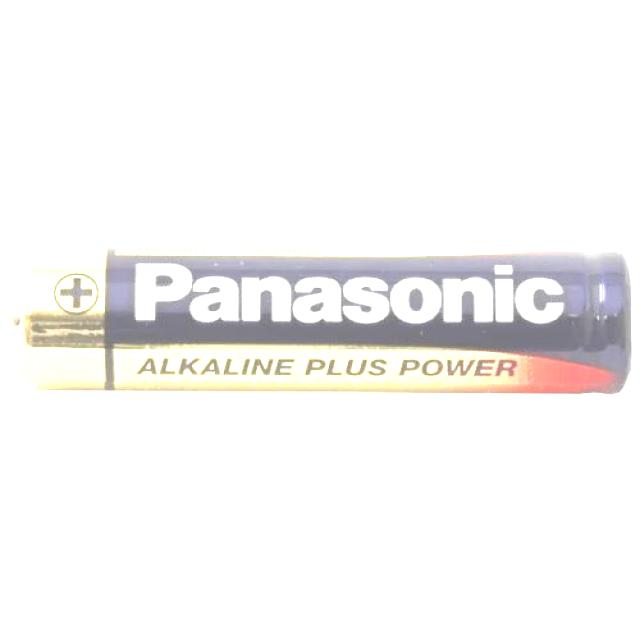AA: (1, 241, 637, 398)
